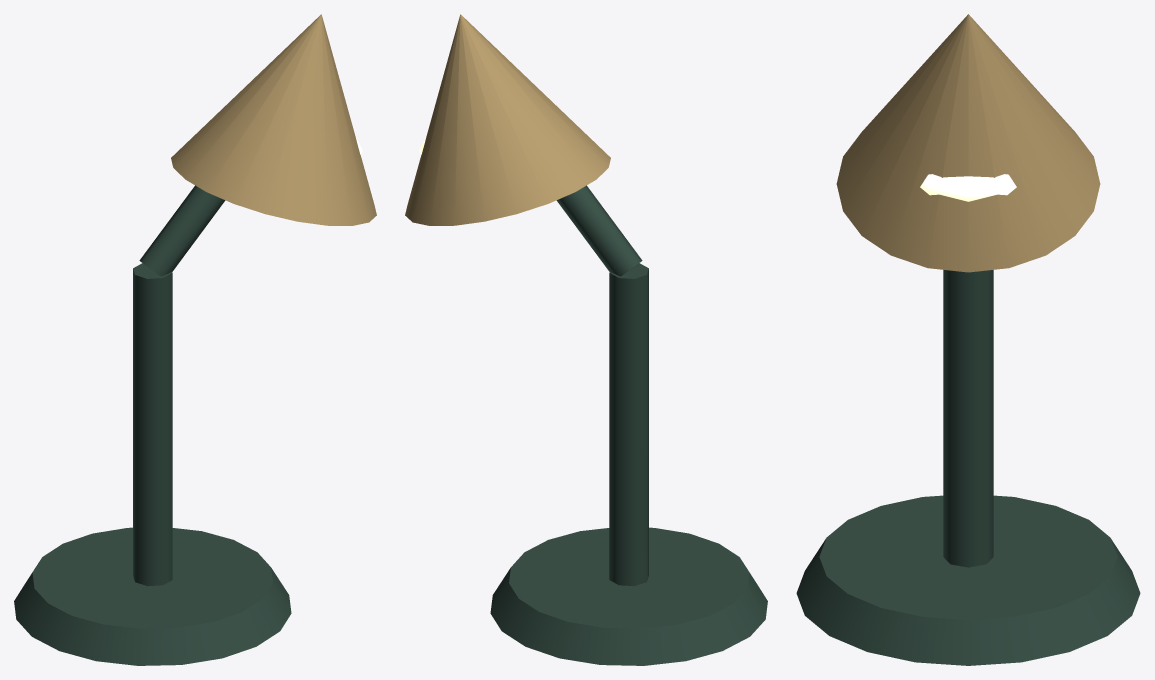
Rendered from desk-lamp.glb.
3 views of the same model, side by side, from view 1: azimuth 30°, elevation 25°; view 2: azimuth 150°, elevation 25°; view 3: azimuth 270°, elevation 25° (orthographic). The views are drawn at different scales.
Parts seen in each view (by area): view 1: desk-lamp; view 2: desk-lamp; view 3: desk-lamp.
Part boxes in pixels (x1,y1,x2,y2): desk-lamp: (14,14,376,665); desk-lamp: (405,14,767,665); desk-lamp: (796,14,1140,665).
Bounding box in the file's own units: 0.4103 × 0.655 × 0.3.
